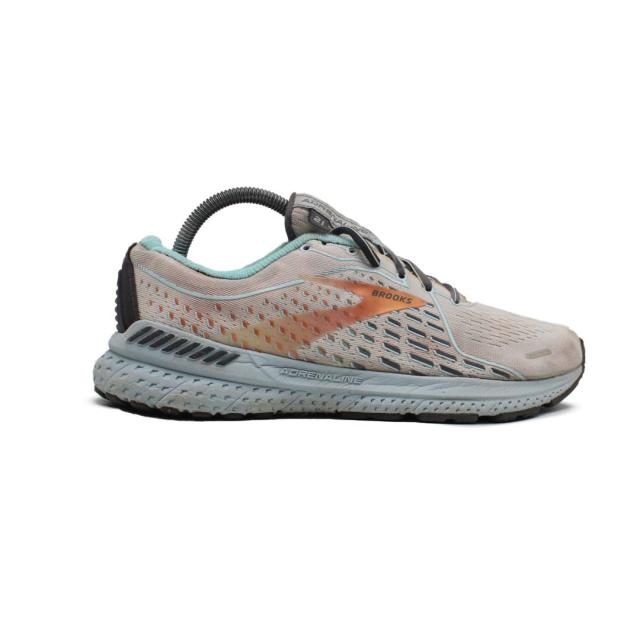heel: (117, 243, 188, 335)
midsole: (93, 323, 583, 420)
uppersole: (177, 189, 581, 379)
